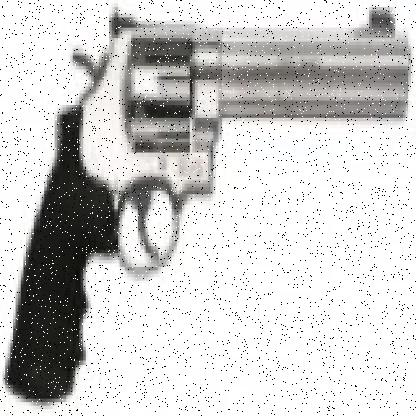pistol: (10, 14, 403, 395)
